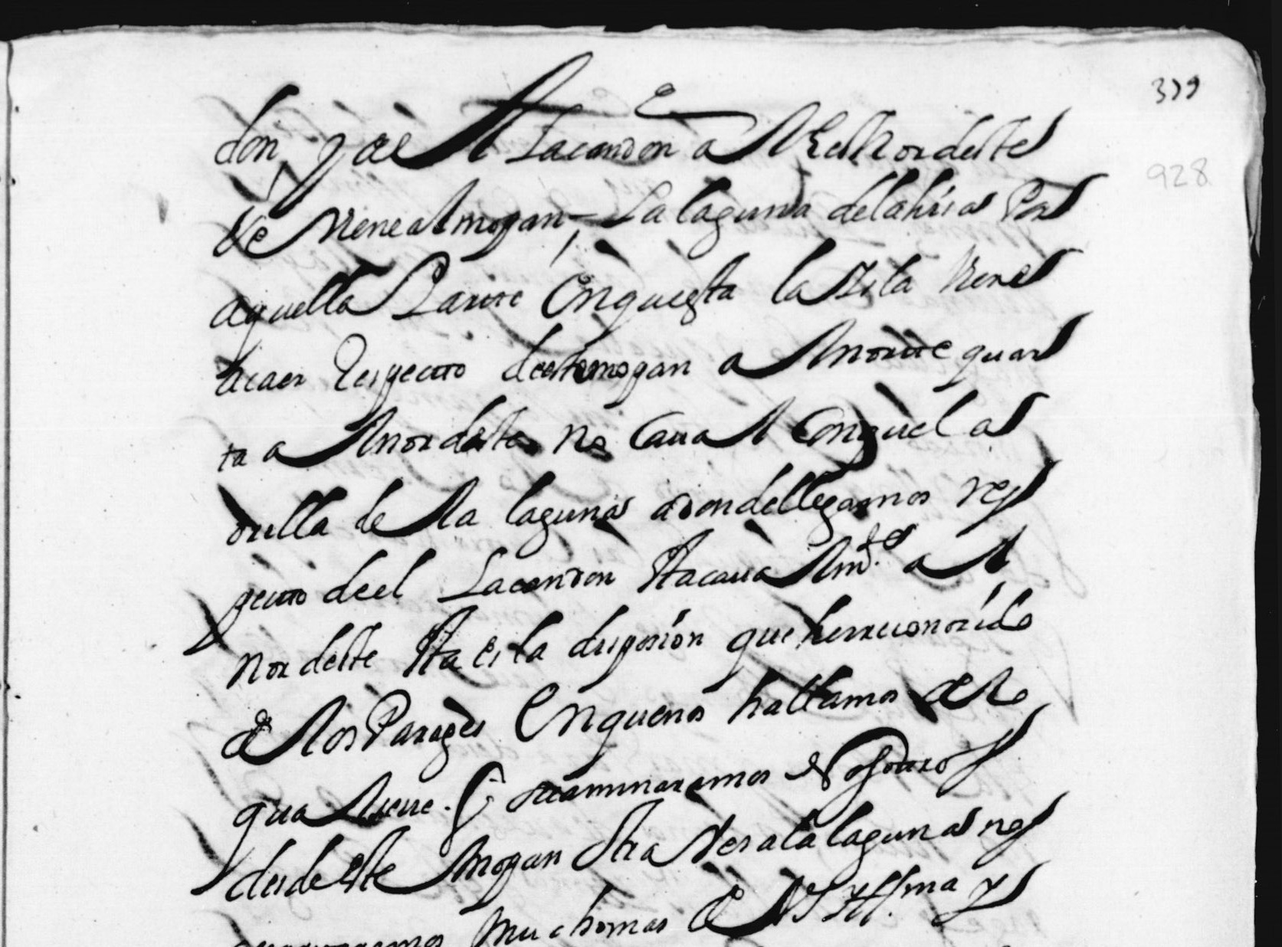lacandon: (437, 546, 615, 603)
